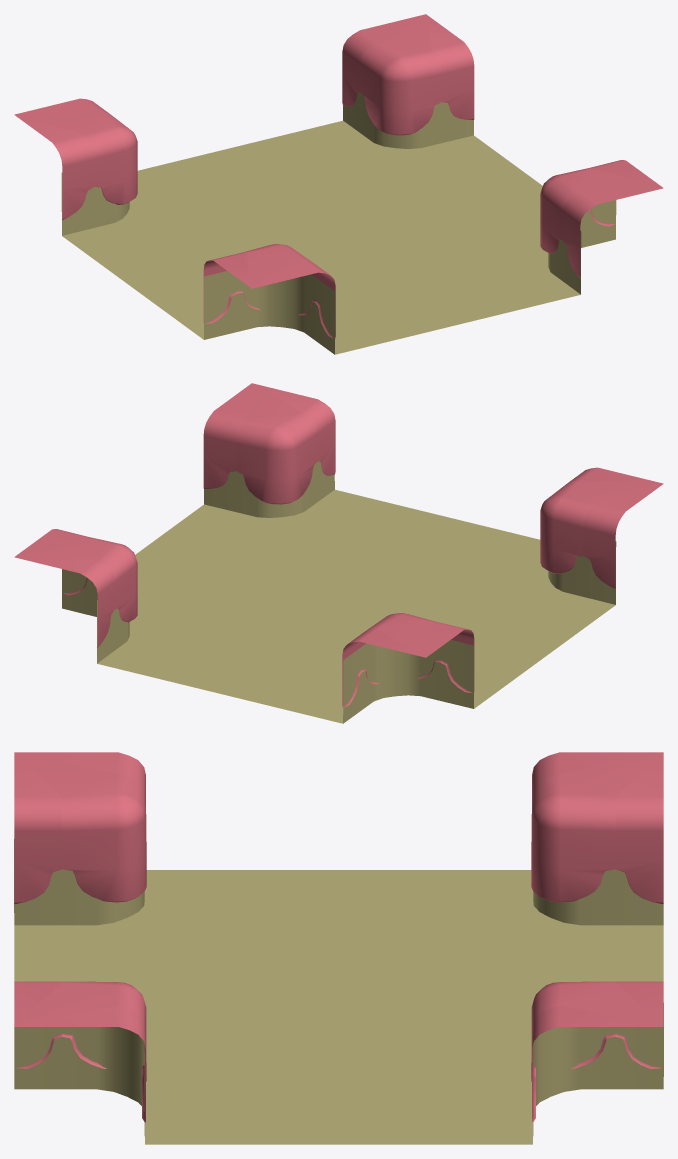
File: SM_Tile_Cross.fbx
3 views of the same model, one above another, from view 1: azimuth 30°, elevation 25°; view 2: azimuth 150°, elevation 25°; view 3: azimuth 270°, elevation 25° (orthographic). The views are drawn at different scales.
Parts seen in each view (by area): view 1: SM_Tile_Cross; view 2: SM_Tile_Cross; view 3: SM_Tile_Cross.
Part boxes in pixels (x1=…): SM_Tile_Cross: x1=14, y1=14, x2=663, y2=354; SM_Tile_Cross: x1=14, y1=383, x2=663, y2=723; SM_Tile_Cross: x1=14, y1=752, x2=663, y2=1144.
Bounding box in the file's own units: 446 × 89.16 × 446.
